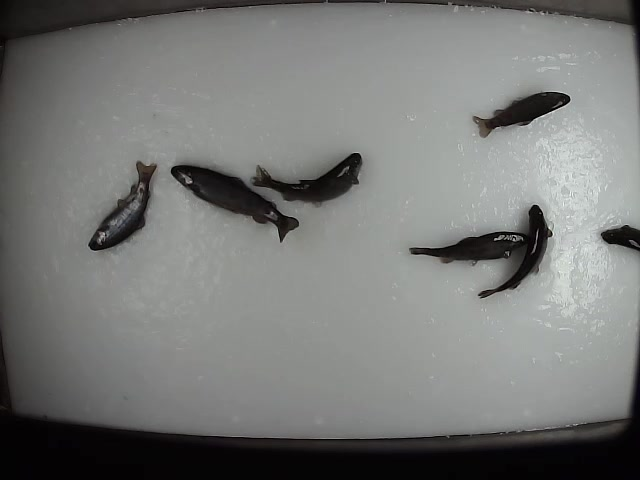fish: (168, 165, 302, 245), (476, 199, 551, 300), (85, 159, 159, 253), (248, 148, 362, 208), (469, 89, 572, 143), (408, 229, 534, 266)
